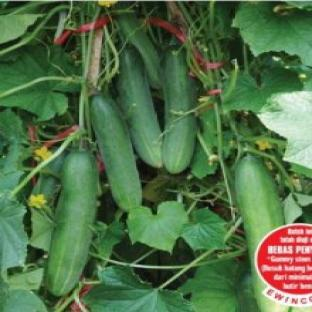Cucumber: (235, 155, 287, 311), (46, 151, 97, 295), (91, 94, 141, 211), (118, 46, 161, 167), (164, 47, 197, 173), (117, 12, 161, 88), (33, 153, 66, 204), (236, 271, 259, 311)
